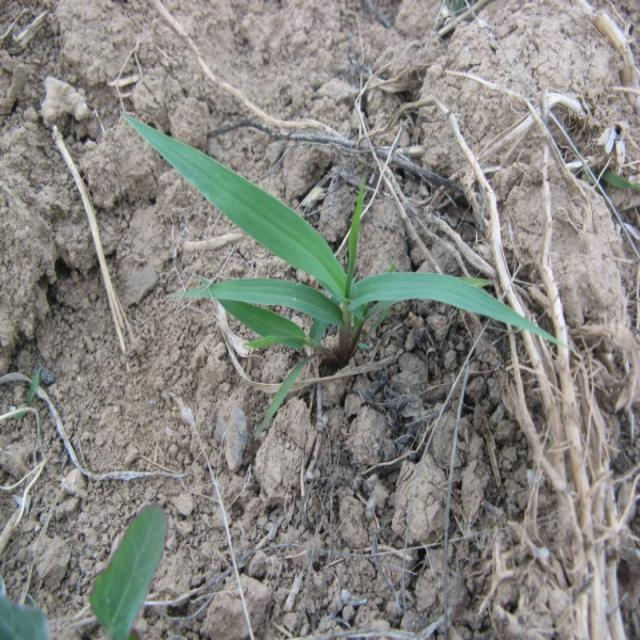bg: (138, 120, 561, 380)
